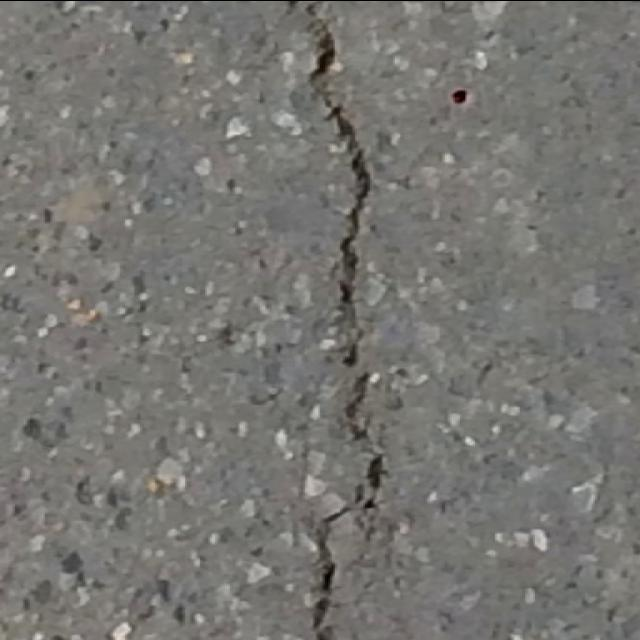crack: (273, 1, 402, 638)
